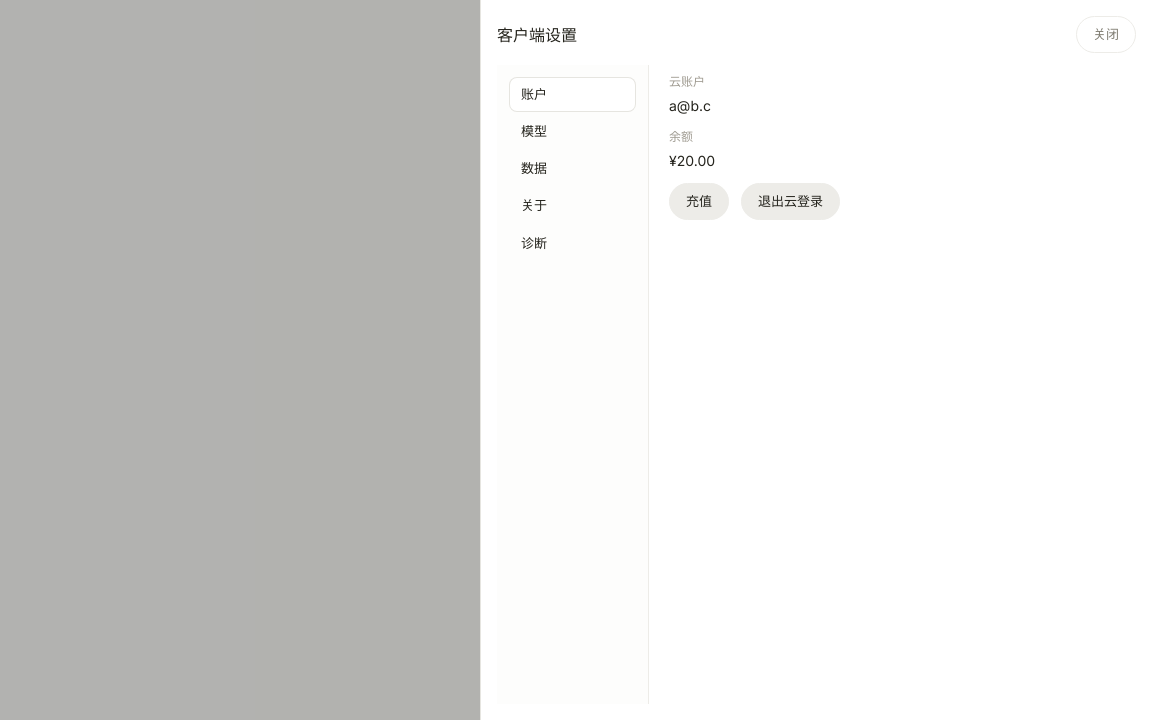
DesktopSettingsDrawer › 诊断 stays collapsed by default and expands on selection
The image size is (1152, 720).
Expected: the text "a@b.c" is shown, [669, 97, 711, 114]
Expected: the text "PostgreSQL" is not shown
Click the button "诊断": x=572, y=243 [509, 226, 636, 261]
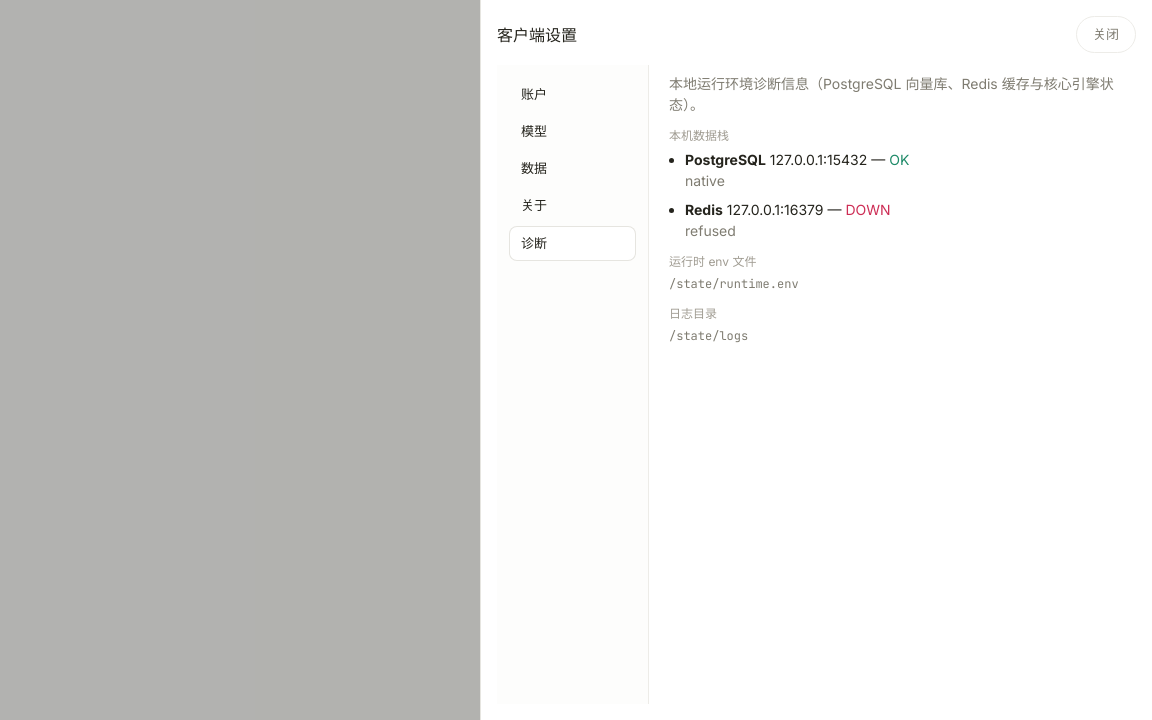
Expected: the text "PostgreSQL" is shown, [685, 151, 766, 168]
Expected: the text "OK" is shown, [889, 151, 909, 168]
Expected: the text "DOWN" is shown, [845, 201, 891, 218]
